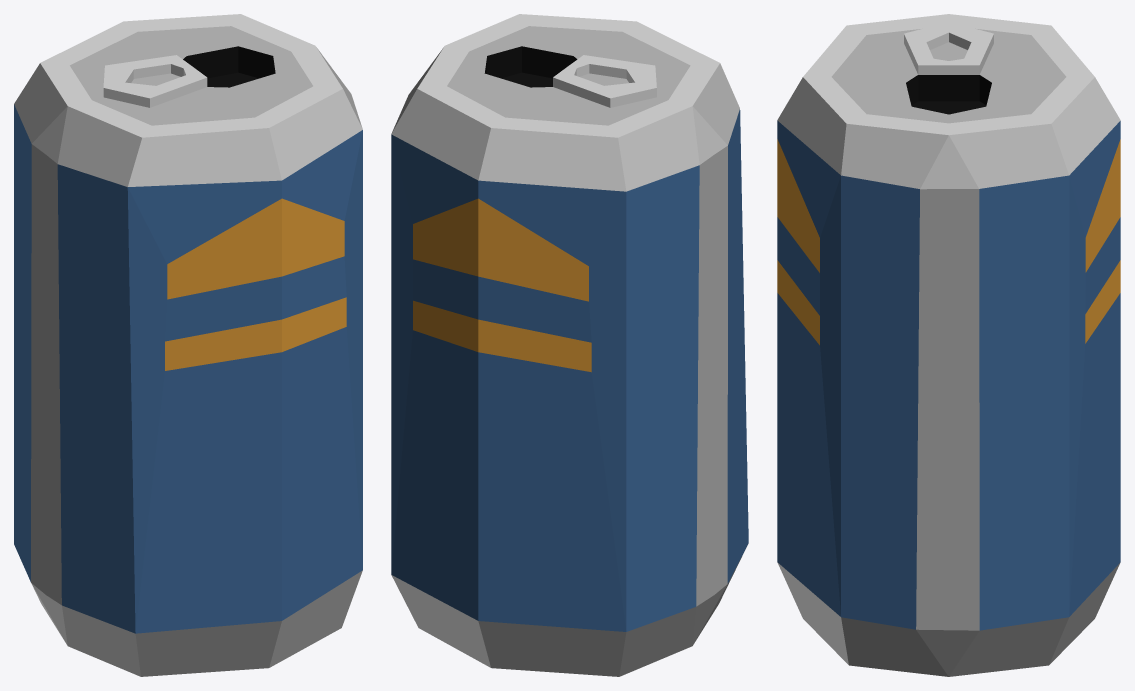
The model's file is SM_Item_Can_02.fbx.
The picture shows the model from 3 angles, left to right: view 1: azimuth 30°, elevation 25°; view 2: azimuth 150°, elevation 25°; view 3: azimuth 270°, elevation 25°; orthographic projection.
Visible parts, largest first — view 1: SM_Item_Can_02; view 2: SM_Item_Can_02; view 3: SM_Item_Can_02.
Part boxes in pixels (bbox=[...]): SM_Item_Can_02: bbox=[14, 14, 362, 676]; SM_Item_Can_02: bbox=[391, 14, 748, 676]; SM_Item_Can_02: bbox=[777, 14, 1120, 676].
Bounding box in the file's own units: 10.65 × 19.15 × 10.81.
